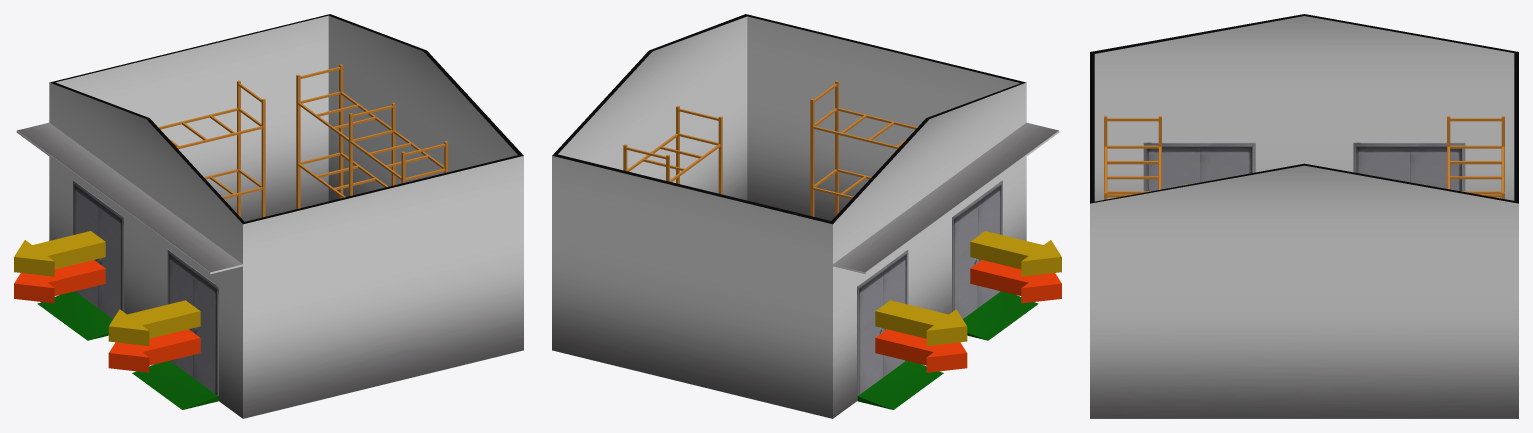
The model's file is soubrain_T1-4-1F.glb.
3 renders of one model, left to right at view 1: azimuth 30°, elevation 25°; view 2: azimuth 150°, elevation 25°; view 3: azimuth 270°, elevation 25°, orthographic. The views are drawn at different scales.
Visible parts, largest first — view 1: Box120, T1-4-1F, Box118, arrow_Y_1_T1-4-1F, arrow_Y_2_T1-4-1F, arrow_R_1_T1-4-1F, arrow_R_2_T1-4-1F; view 2: Box120, T1-4-1F, Box118, arrow_Y_2_T1-4-1F, arrow_Y_1_T1-4-1F, arrow_R_2_T1-4-1F, arrow_R_1_T1-4-1F; view 3: Box120, T1-4-1F.
Part boxes in pixels (x1=…): Box120: x1=16, y1=14, x2=523, y2=418; T1-4-1F: x1=73, y1=64, x2=448, y2=395; Box118: x1=37, y1=291, x2=218, y2=409; arrow_Y_1_T1-4-1F: x1=108, y1=300, x2=200, y2=345; arrow_Y_2_T1-4-1F: x1=14, y1=231, x2=105, y2=276; arrow_R_1_T1-4-1F: x1=108, y1=329, x2=200, y2=372; arrow_R_2_T1-4-1F: x1=14, y1=260, x2=105, y2=303; Box120: x1=552, y1=14, x2=1059, y2=418; T1-4-1F: x1=623, y1=80, x2=1002, y2=401; Box118: x1=857, y1=291, x2=1038, y2=409; arrow_Y_2_T1-4-1F: x1=875, y1=300, x2=967, y2=345; arrow_Y_1_T1-4-1F: x1=970, y1=231, x2=1061, y2=276; arrow_R_2_T1-4-1F: x1=875, y1=329, x2=967, y2=372; arrow_R_1_T1-4-1F: x1=970, y1=260, x2=1061, y2=303; Box120: x1=1090, y1=14, x2=1518, y2=418; T1-4-1F: x1=1104, y1=116, x2=1504, y2=199.
Size of the model in its own units: 10.03 by 6 by 9.2.
Materials: 7 (4 with a texture image).
